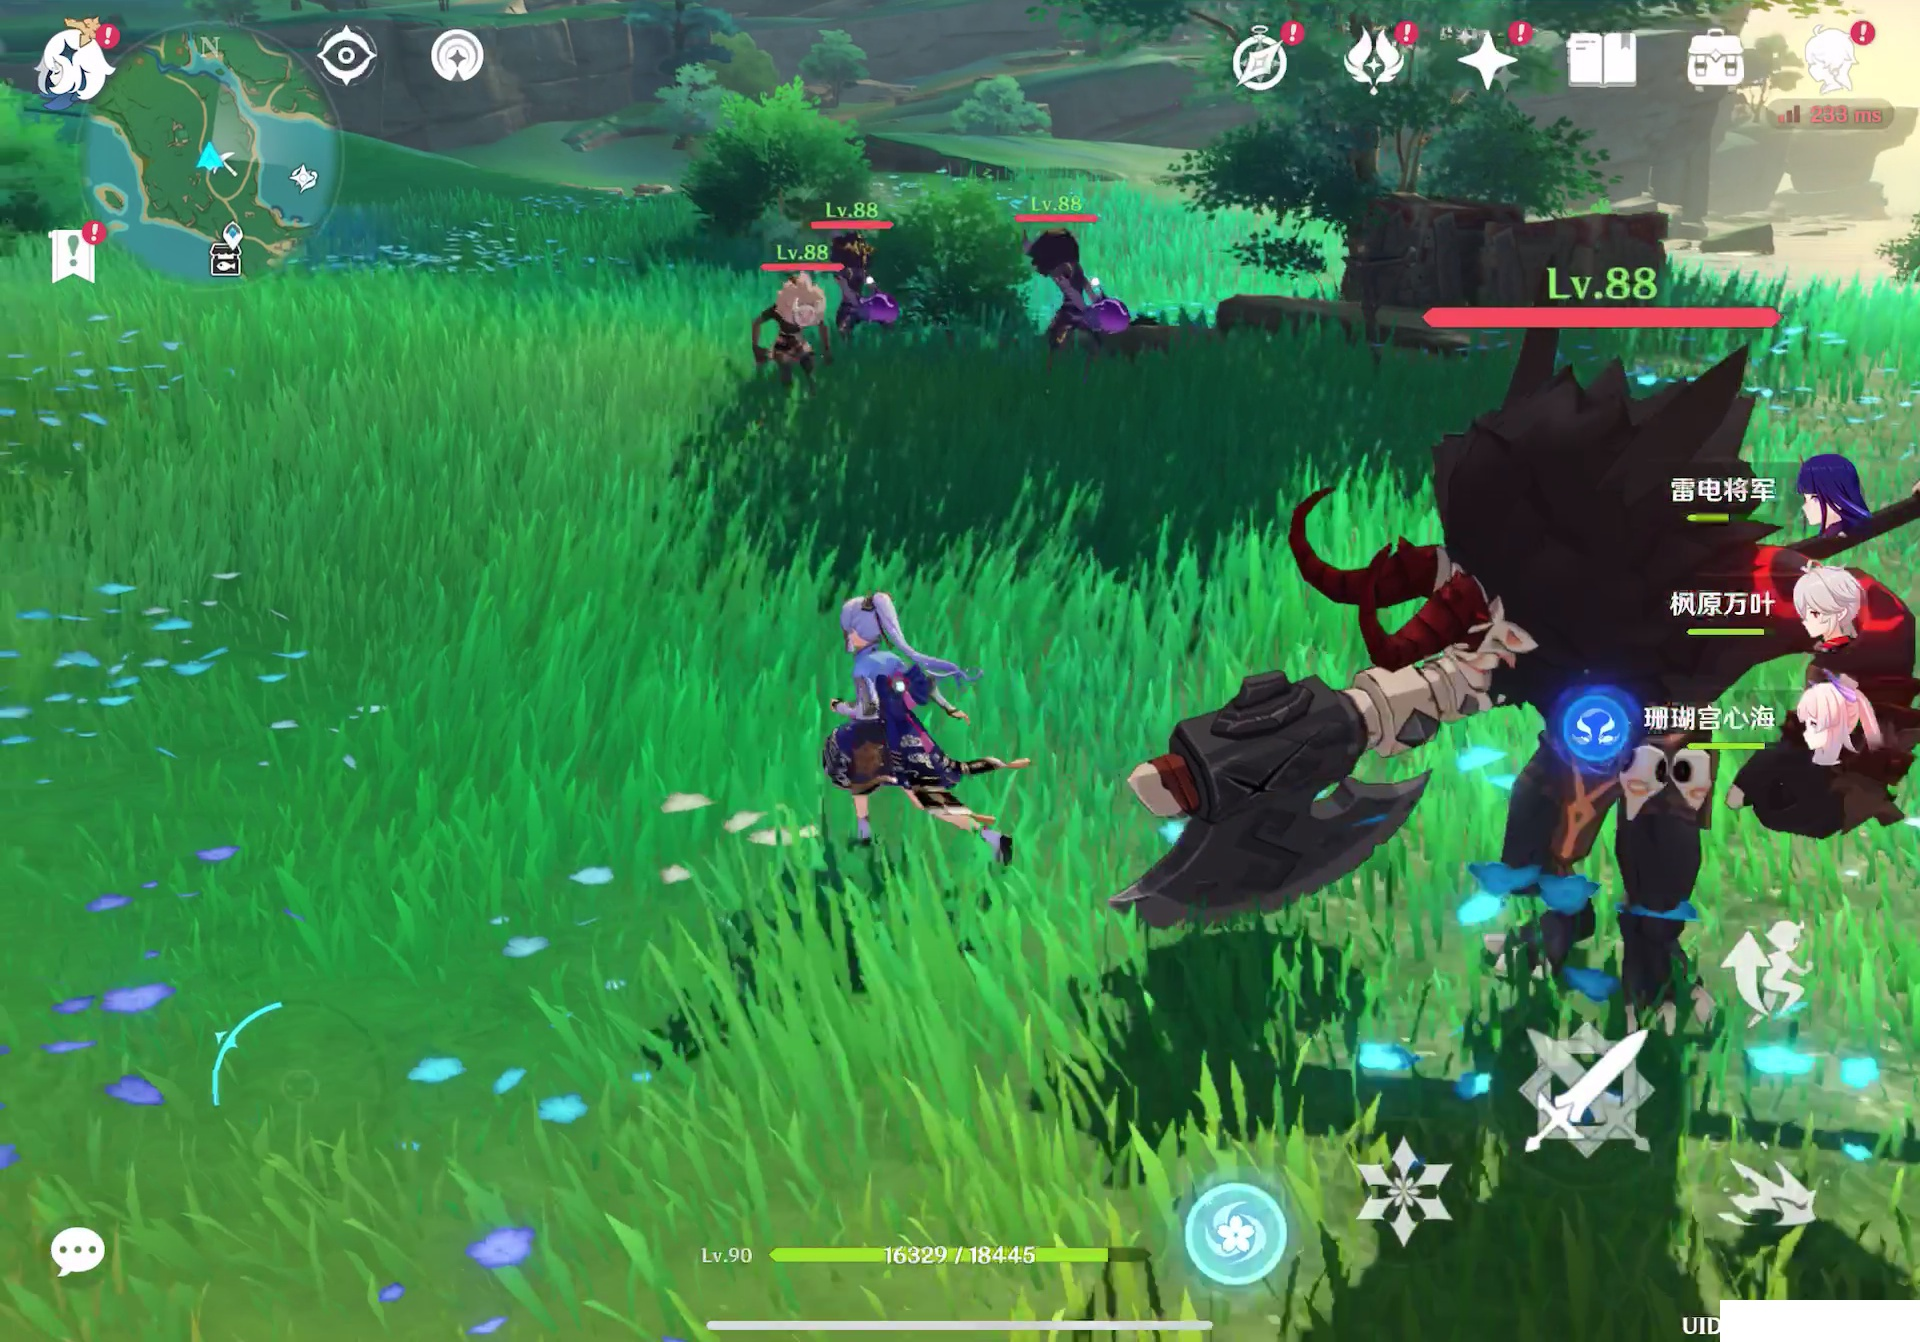NTR: (1169, 365, 1920, 1004)
丘丘人: (1026, 228, 1137, 371), (832, 236, 915, 346), (756, 260, 823, 379)
神里绫龟: (786, 548, 1018, 862)
